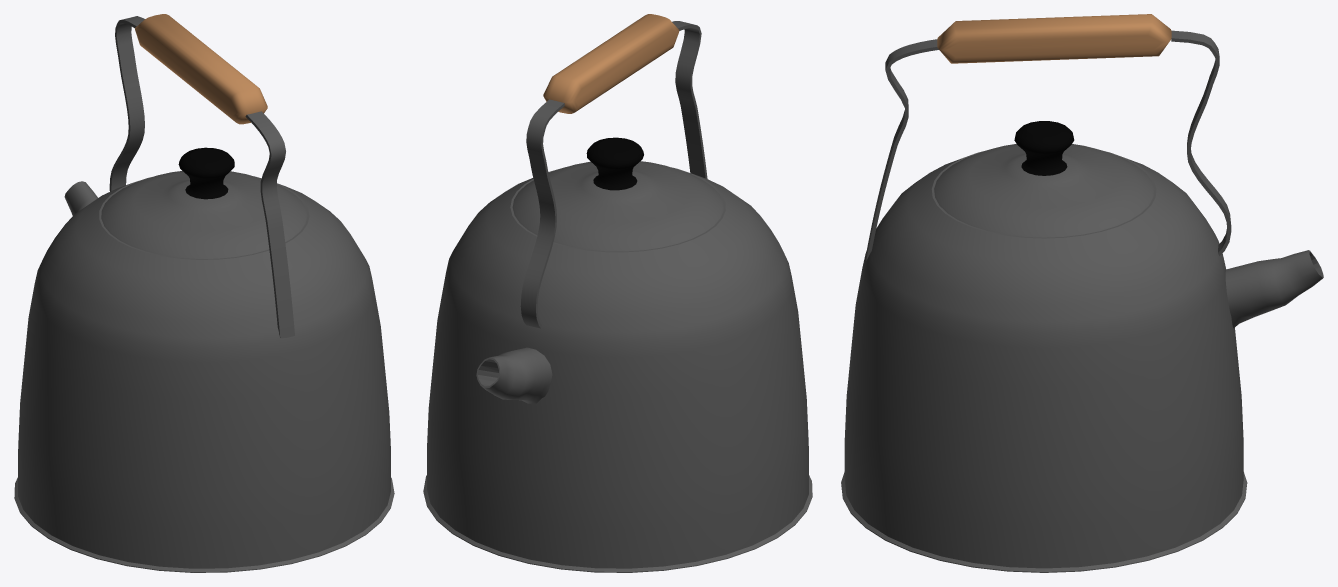
Rendered from Kettle.FBX.
3 views of the same model, side by side, from view 1: azimuth 30°, elevation 25°; view 2: azimuth 150°, elevation 25°; view 3: azimuth 270°, elevation 25° (orthographic). The views are drawn at different scales.
Visible parts, largest first — view 1: Kettle; view 2: Kettle; view 3: Kettle.
Boxes of the visible parts, box(x1,y1,x2,y2) form: Kettle: box(14, 14, 394, 572); Kettle: box(423, 14, 812, 572); Kettle: box(841, 14, 1323, 572).
Bounding box in the file's own units: 8.8 × 11.23 × 10.47.
